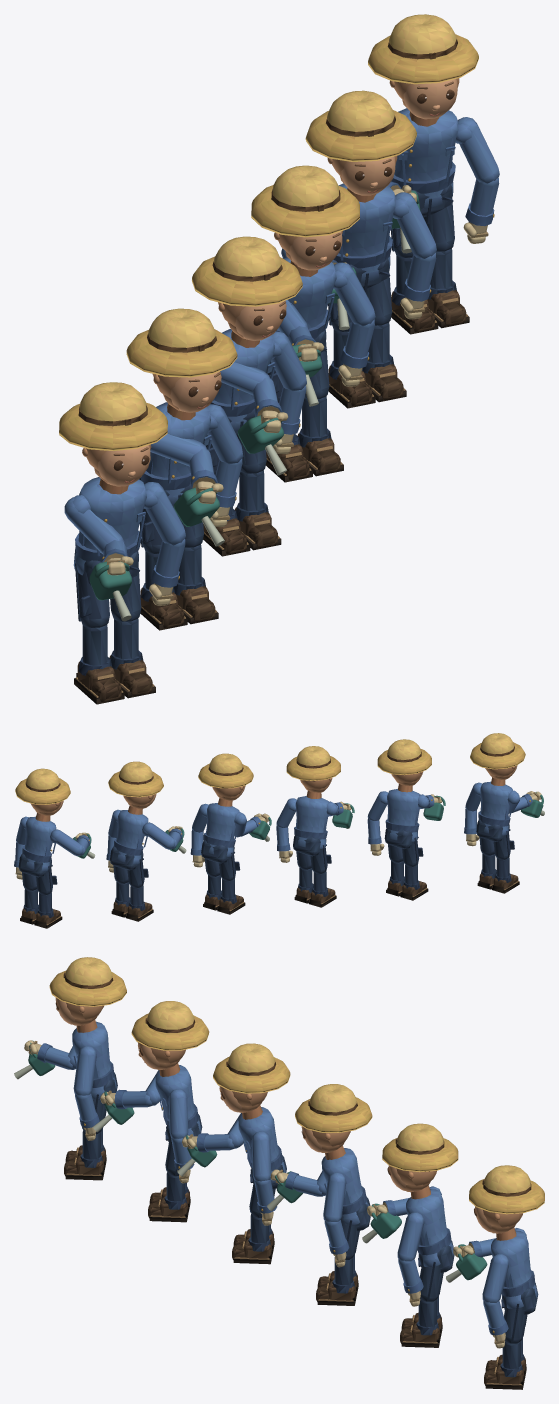
Rendered from ba-water-tq-after.glb.
3 views of the same model, one above another, from view 1: azimuth 30°, elevation 25°; view 2: azimuth 150°, elevation 25°; view 3: azimuth 270°, elevation 25° (orthographic). The views are drawn at different scales.
Parts seen in each view (by area): view 1: strawHat (×6), denimJacketTorso (×6), leftShin (×6), head (×6), rightShin (×6), leftUpperArm (×6), leftLowerArm (×6), rightUpperArm (×3), wateringCanBody (×3), leftThigh (×2), rightThigh; view 2: strawHat (×6), denimJacketTorso (×6), rightShin (×6), leftShin (×6), trouserHips (×6), rightThigh (×6), head (×6), leftUpperArm (×4), leftLowerArm (×4), rightUpperArm (×3), wateringCanBody (×3); view 3: strawHat (×6), denimJacketTorso (×6), leftShin (×6), leftUpperArm (×6), head (×6), leftLowerArm (×5), rightLowerArm (×4), leftThigh (×2), wateringCanBody (×2).
Part boxes in pixels (x1,y1,x2,y2): strawHat (×6): (59, 14, 478, 450); denimJacketTorso (×6): (73, 108, 458, 575); leftShin (×6): (109, 248, 469, 698); head (×6): (82, 78, 459, 486); rightShin (×6): (74, 255, 438, 704); leftUpperArm (×6): (144, 117, 499, 545); leftLowerArm (×6): (150, 177, 499, 587); rightUpperArm (×3): (64, 362, 269, 554); wateringCanBody (×3): (89, 415, 283, 600); leftThigh (×2): (366, 197, 454, 325); rightThigh: (75, 563, 109, 627); strawHat (×6): (15, 733, 525, 804); denimJacketTorso (×6): (22, 777, 512, 871); rightShin (×6): (34, 857, 519, 928); leftShin (×6): (20, 854, 496, 924); trouserHips (×6): (18, 819, 510, 877); rightThigh (×6): (36, 831, 514, 894); head (×6): (30, 765, 517, 815); leftUpperArm (×4): (192, 782, 481, 832); leftLowerArm (×4): (190, 809, 476, 855); rightUpperArm (×3): (50, 812, 246, 856); wateringCanBody (×3): (332, 799, 543, 828); strawHat (×6): (49, 957, 544, 1214); denimJacketTorso (×6): (72, 1020, 537, 1308); leftShin (×6): (64, 1130, 524, 1389); leftUpperArm (×6): (73, 1046, 508, 1302); head (×6): (55, 997, 522, 1233); leftLowerArm (×5): (75, 1093, 508, 1335); rightLowerArm (×4): (37, 1043, 322, 1196); leftThigh (×2): (419, 1261, 526, 1343); wateringCanBody (×2): (370, 1211, 487, 1280).
Size of what is drawn, in the model's own units: 6.11 by 2.4 by 5.52.
